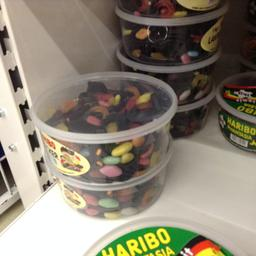candy: (31, 70, 177, 183), (47, 162, 169, 220), (114, 4, 228, 66), (212, 70, 254, 153)
